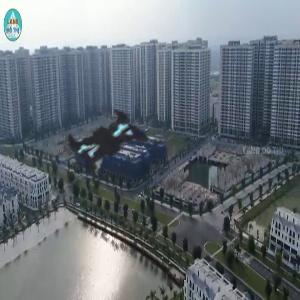drone: (17, 53, 208, 244)
